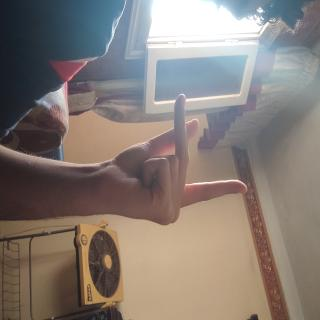DHAA: (67, 89, 173, 310)
